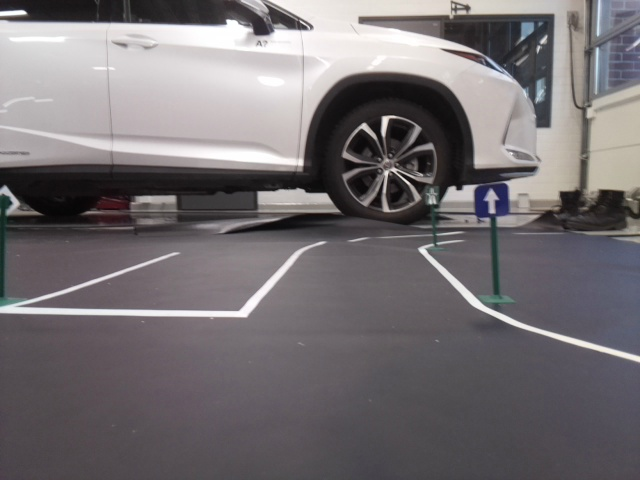HighwayEntrance: (425, 186, 438, 204)
OneWay: (474, 186, 506, 215)
